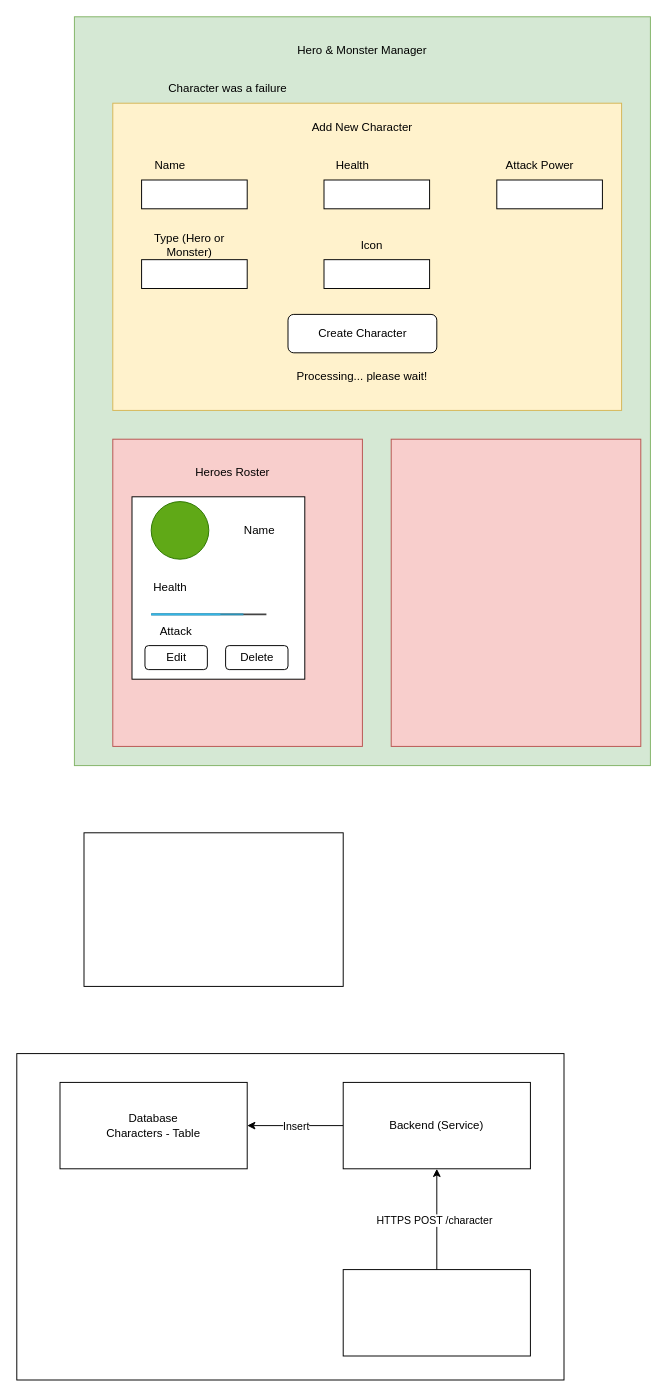
Image size: 667x1397. Some labels were removed from this diagram. The centre of each missing label's shape, as x and y in pixels:
HTTP Verbs POST: the point at 213,909
Monsters Den: the point at 515,592
User Interface (Client): the point at 436,1312
